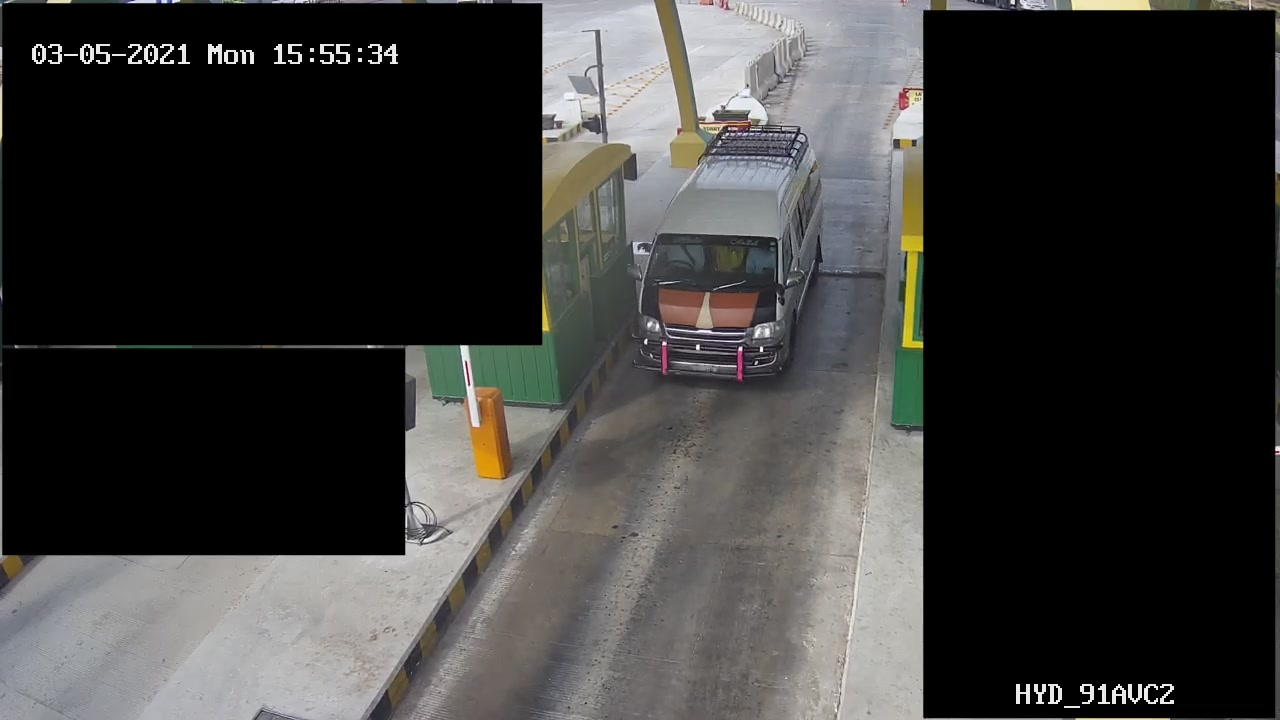F2: (625, 117, 833, 384)
